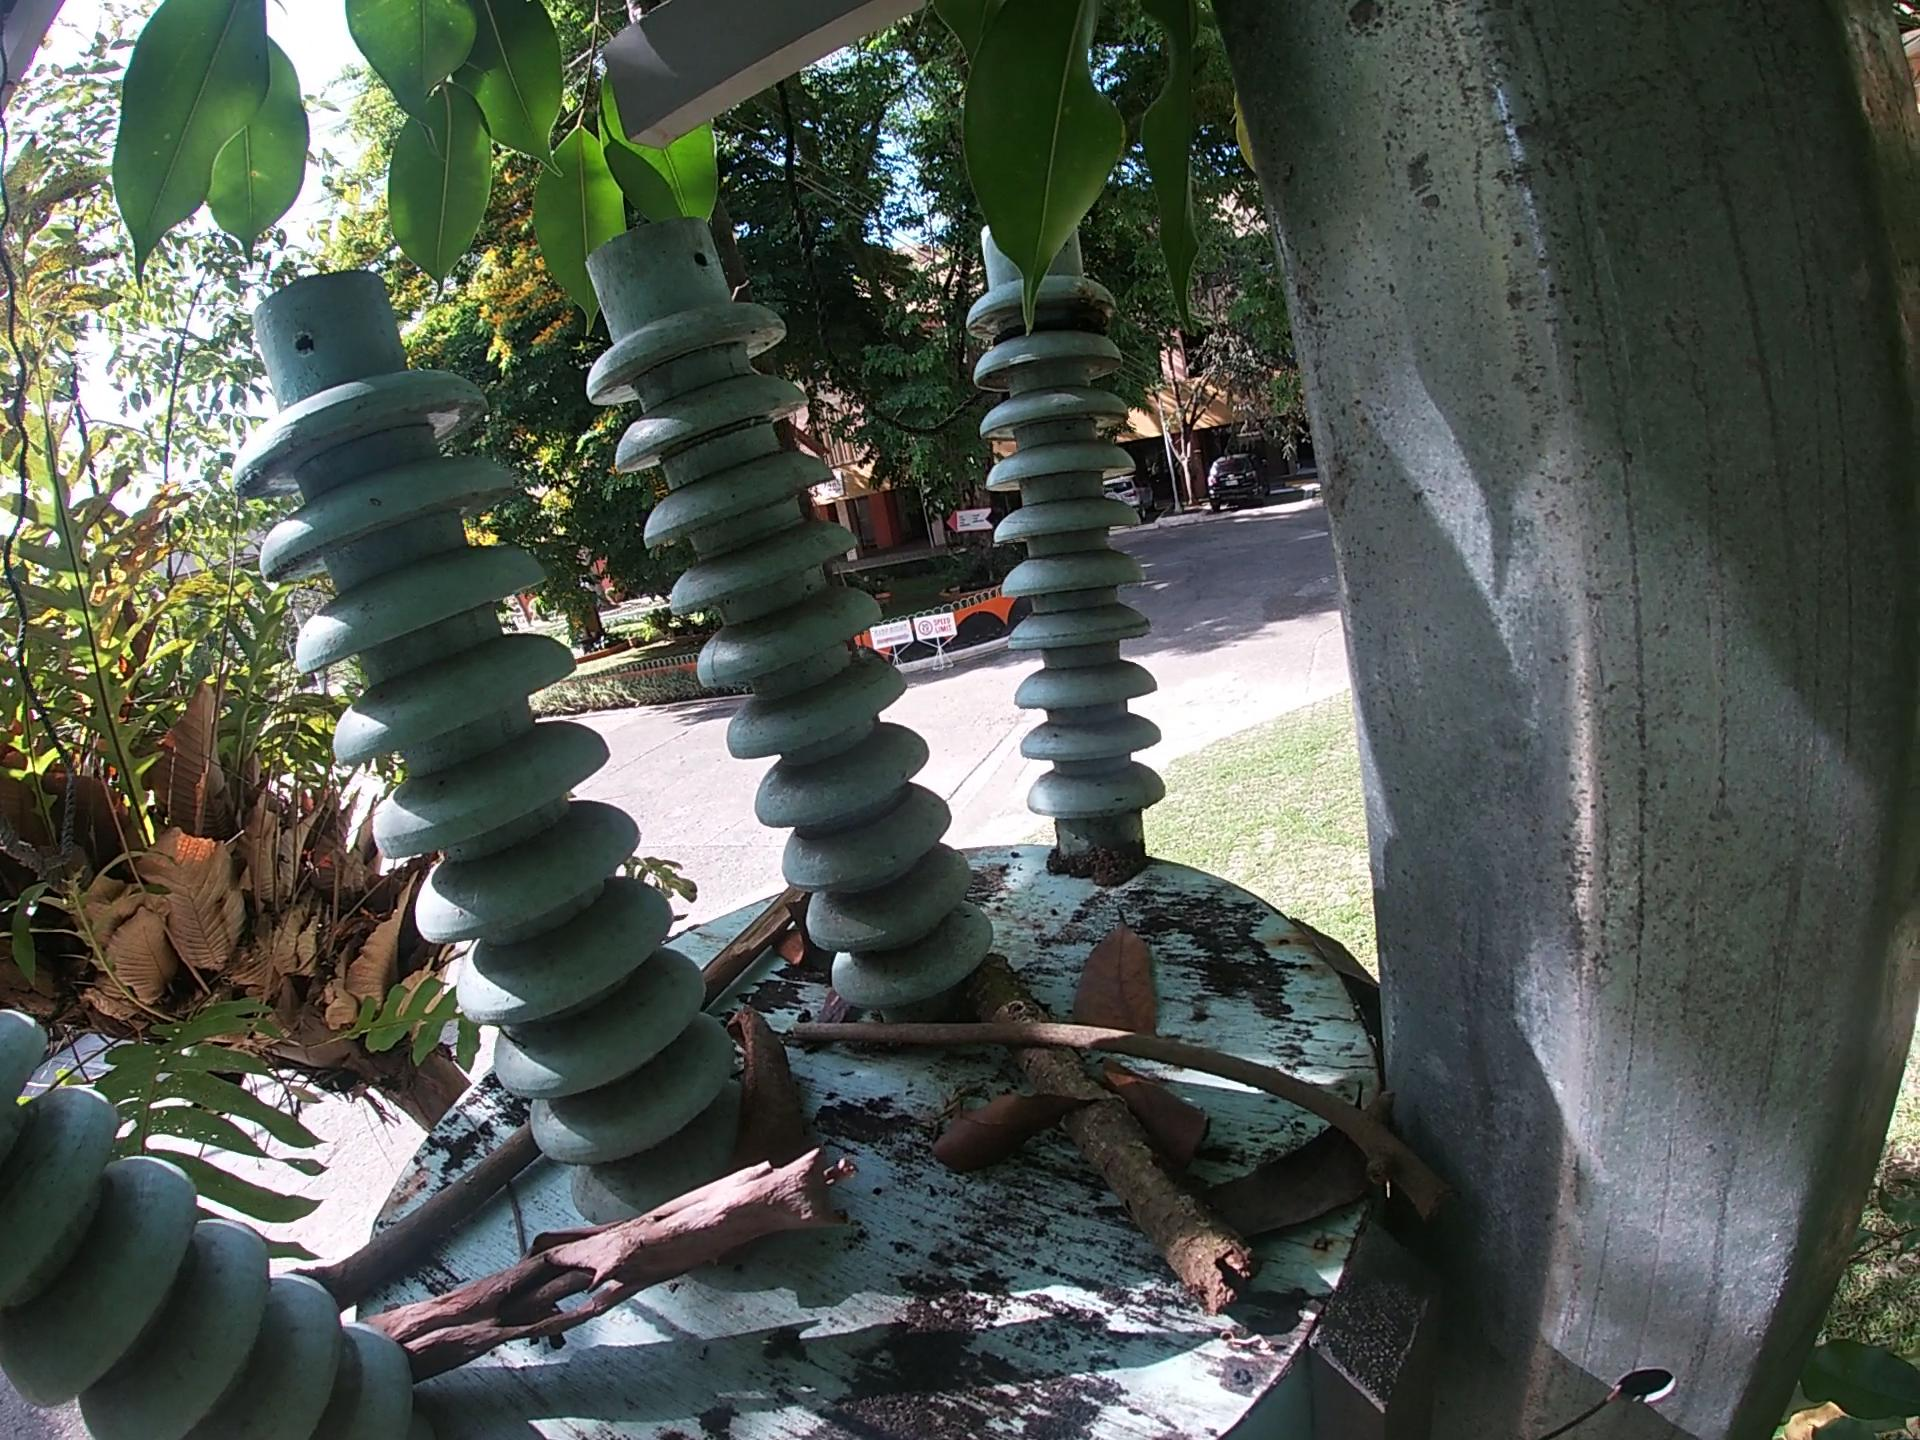leaf: (1209, 1078, 1417, 1248), (900, 1097, 1082, 1172), (1067, 911, 1169, 1030), (1108, 1065, 1215, 1162)
mahogany fruit: (726, 1007, 791, 1153), (773, 903, 809, 971)
tree branch: (349, 1136, 874, 1392), (786, 1015, 1438, 1196), (974, 970, 1279, 1311), (290, 1125, 550, 1302), (703, 873, 792, 1004), (487, 1178, 535, 1268)
